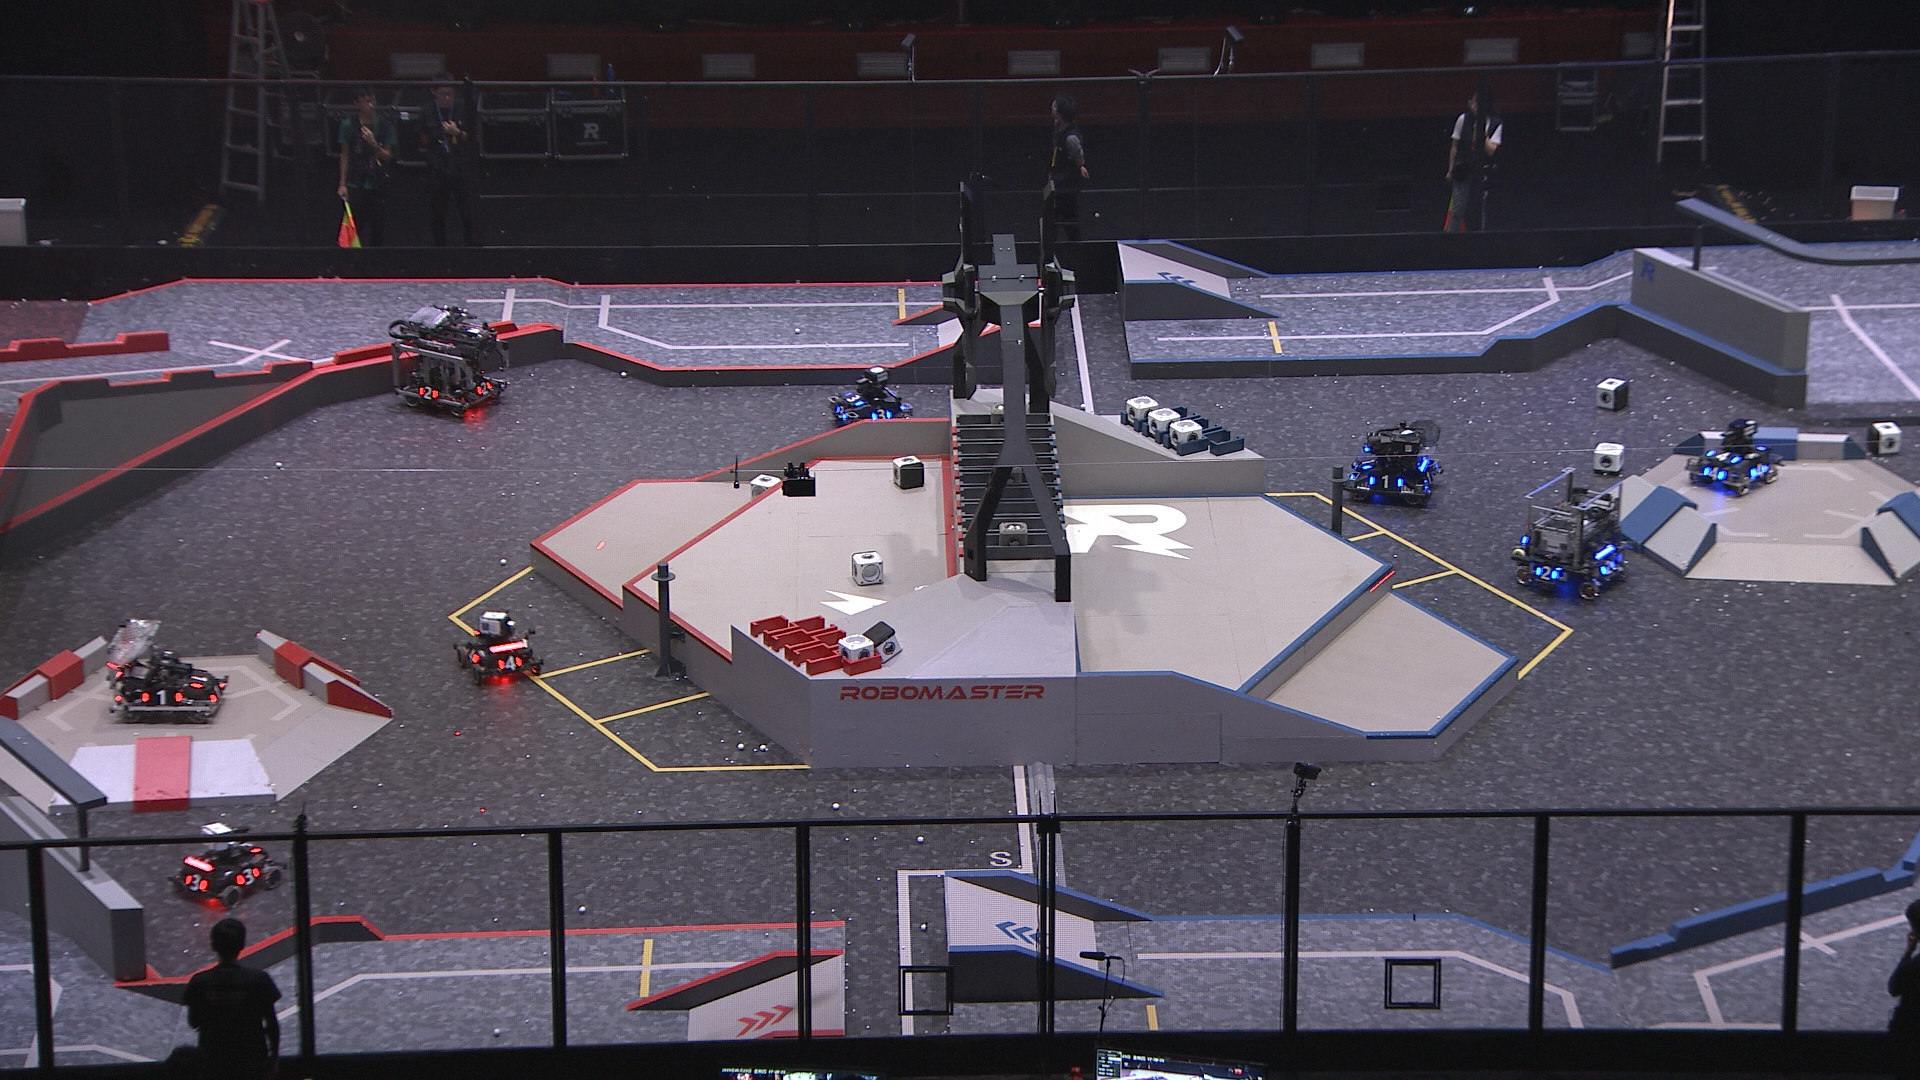armor: (138, 688, 185, 709), (1367, 472, 1406, 493), (233, 866, 262, 887), (1706, 450, 1743, 465), (1534, 564, 1561, 584), (190, 669, 212, 692), (498, 651, 524, 673), (208, 680, 228, 705), (185, 872, 210, 891), (1702, 465, 1730, 483), (418, 384, 439, 404), (1750, 462, 1768, 483), (475, 380, 495, 398), (869, 409, 893, 423), (1360, 456, 1379, 473), (1600, 559, 1617, 579), (843, 392, 862, 407), (833, 405, 851, 422), (467, 647, 483, 665), (1423, 469, 1436, 488)
car: (1510, 469, 1631, 603), (100, 618, 229, 725), (389, 305, 512, 417), (167, 820, 284, 913), (1340, 418, 1447, 509), (1681, 417, 1784, 498), (454, 611, 547, 688), (827, 367, 916, 433)
